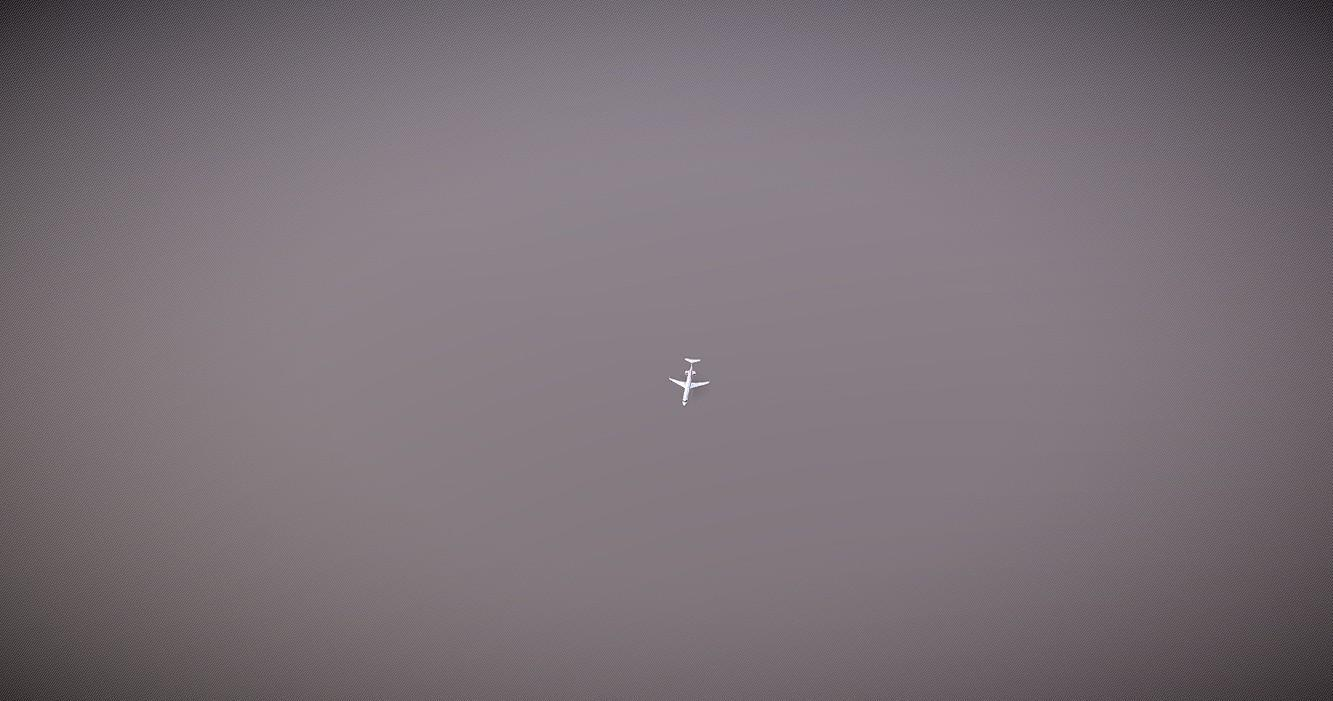Airplane: (668, 356, 709, 405)
